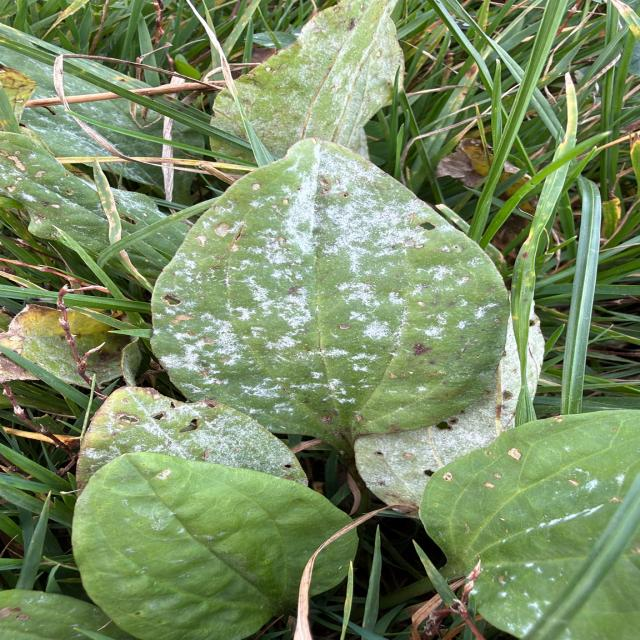powdery_mildew: (151, 138, 508, 460), (356, 318, 519, 510), (236, 0, 403, 159), (76, 386, 306, 488), (211, 89, 247, 140), (528, 315, 544, 396)
